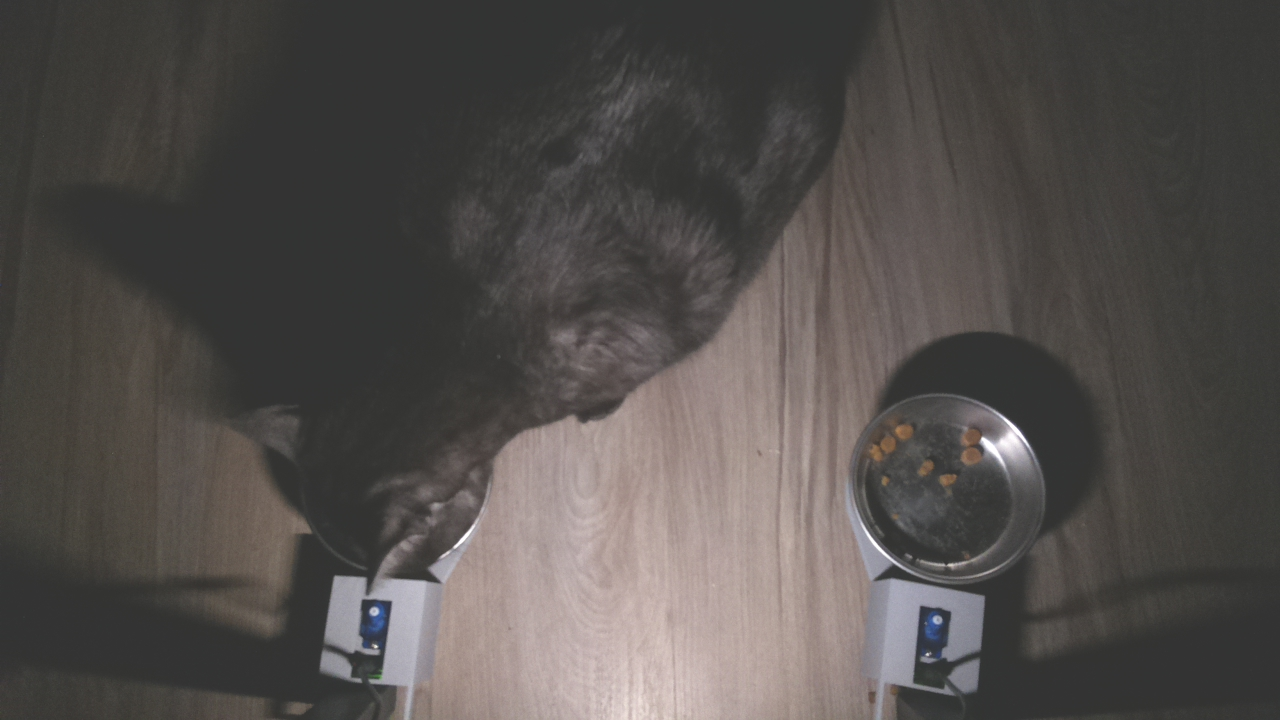open_bowl: (854, 393, 1055, 587)
saki_eating: (218, 311, 495, 603)
